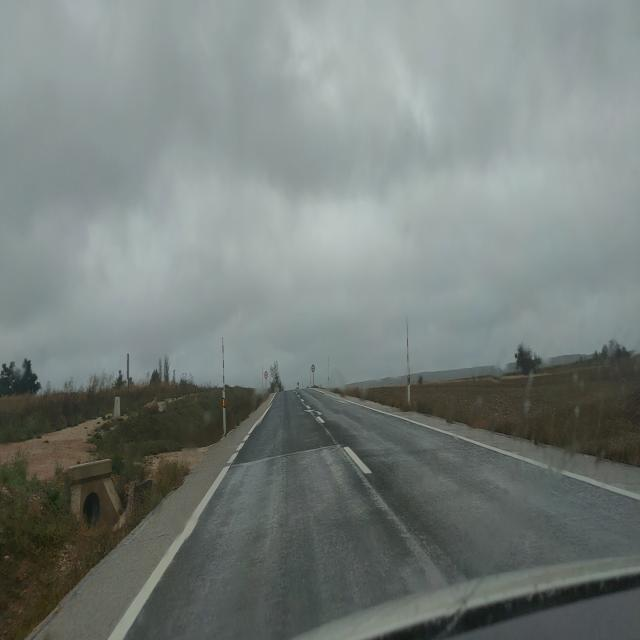Poth-hole: (237, 437, 335, 474)
